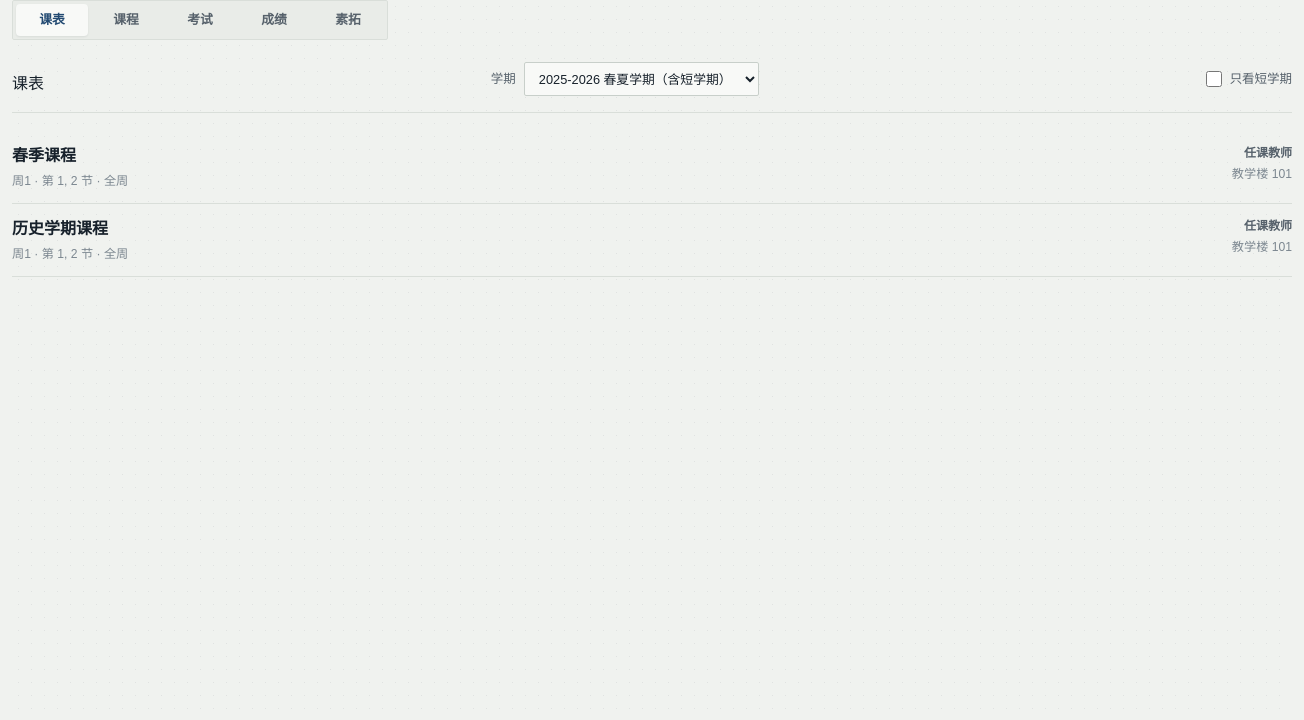
Test: AcademicView › prefers the spring-summer term (含短学期) inside the summer fallback window
Expected: the dropdown labelled "学期" shows "2025-2026 春夏学期（含短学期）", [524, 62, 759, 96]
Expected: the text "历史学期课程" is shown, [12, 220, 108, 237]
Click the checkbox labelled "只看短学期". click: click(1214, 79)
box: [1206, 71, 1222, 87]
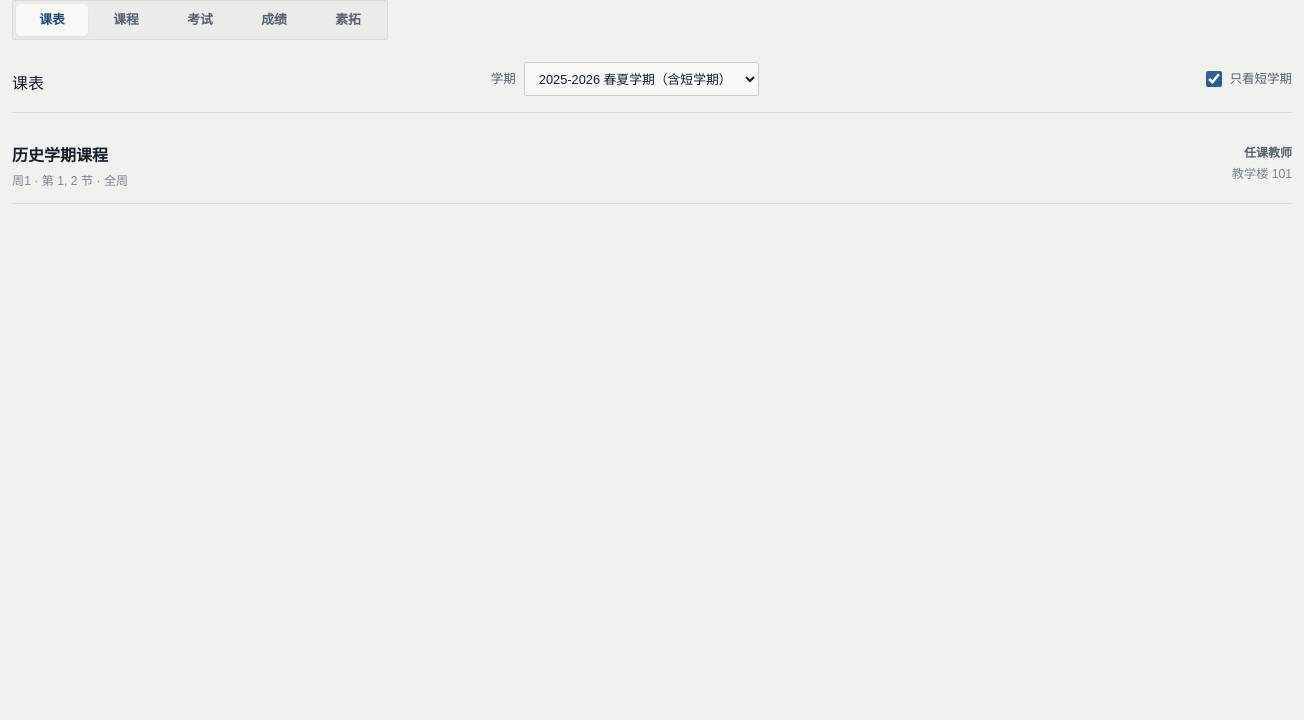
Expected: the text "历史学期课程" is shown, [12, 147, 108, 164]
Expected: the text "春季课程" is gone
